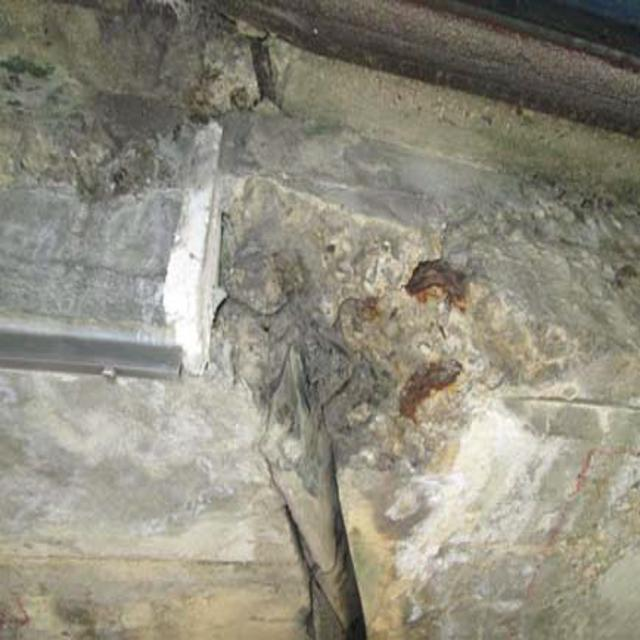spalling: (160, 139, 586, 507)
